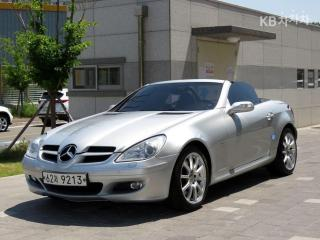1: (72, 175, 76, 185)
2: (65, 175, 72, 186), (49, 174, 54, 184)
3: (76, 175, 83, 185)
6: (45, 173, 50, 183)
9: (60, 173, 66, 185)
plate: (39, 169, 93, 192)
저: (54, 174, 59, 184)
